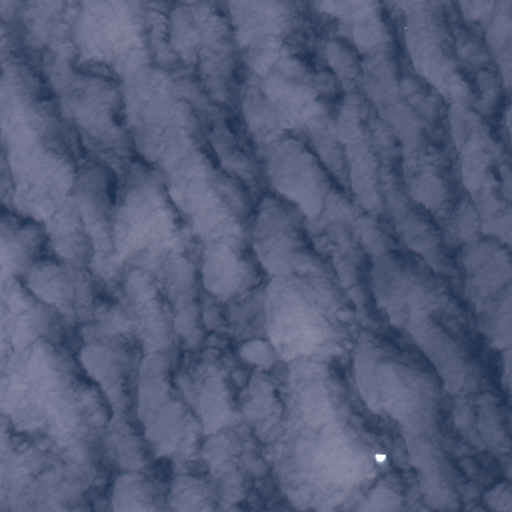Iceberg: (375, 453, 385, 462), (405, 27, 406, 28), (507, 123, 508, 124)
